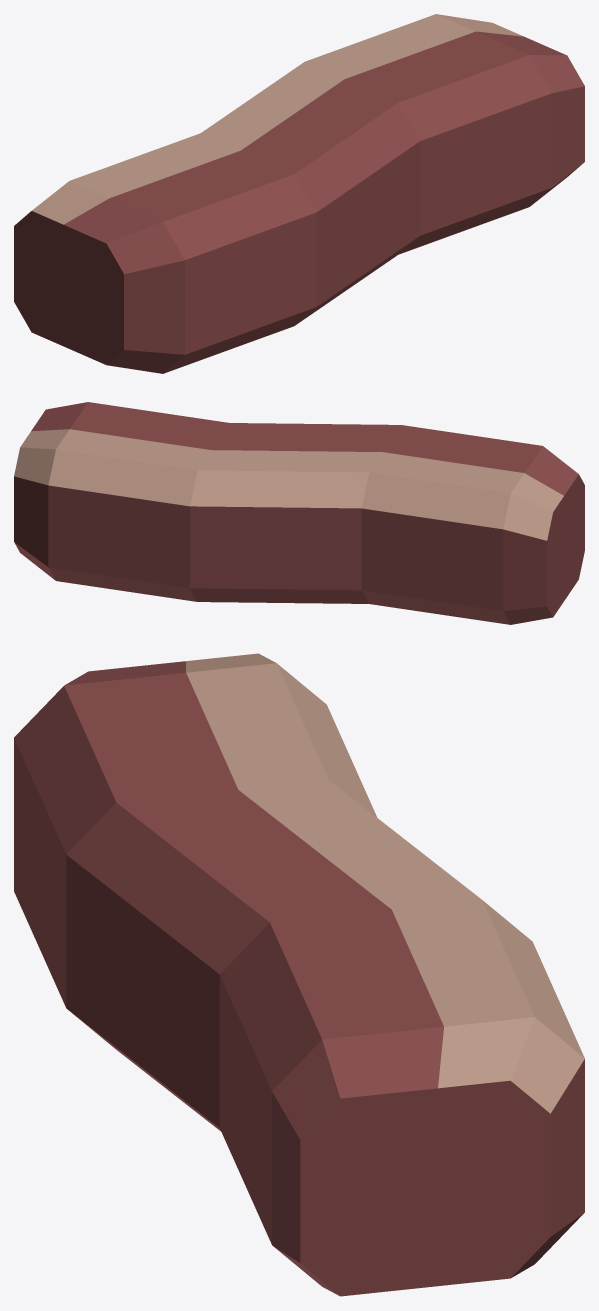
File: item_meat_human_b.obj
3 views of the same model, one above another, from view 1: azimuth 30°, elevation 25°; view 2: azimuth 150°, elevation 25°; view 3: azimuth 270°, elevation 25° (orthographic). The views are drawn at different scales.
Bounding box in the file's own units: 0.874 × 0.2222 × 0.465.
